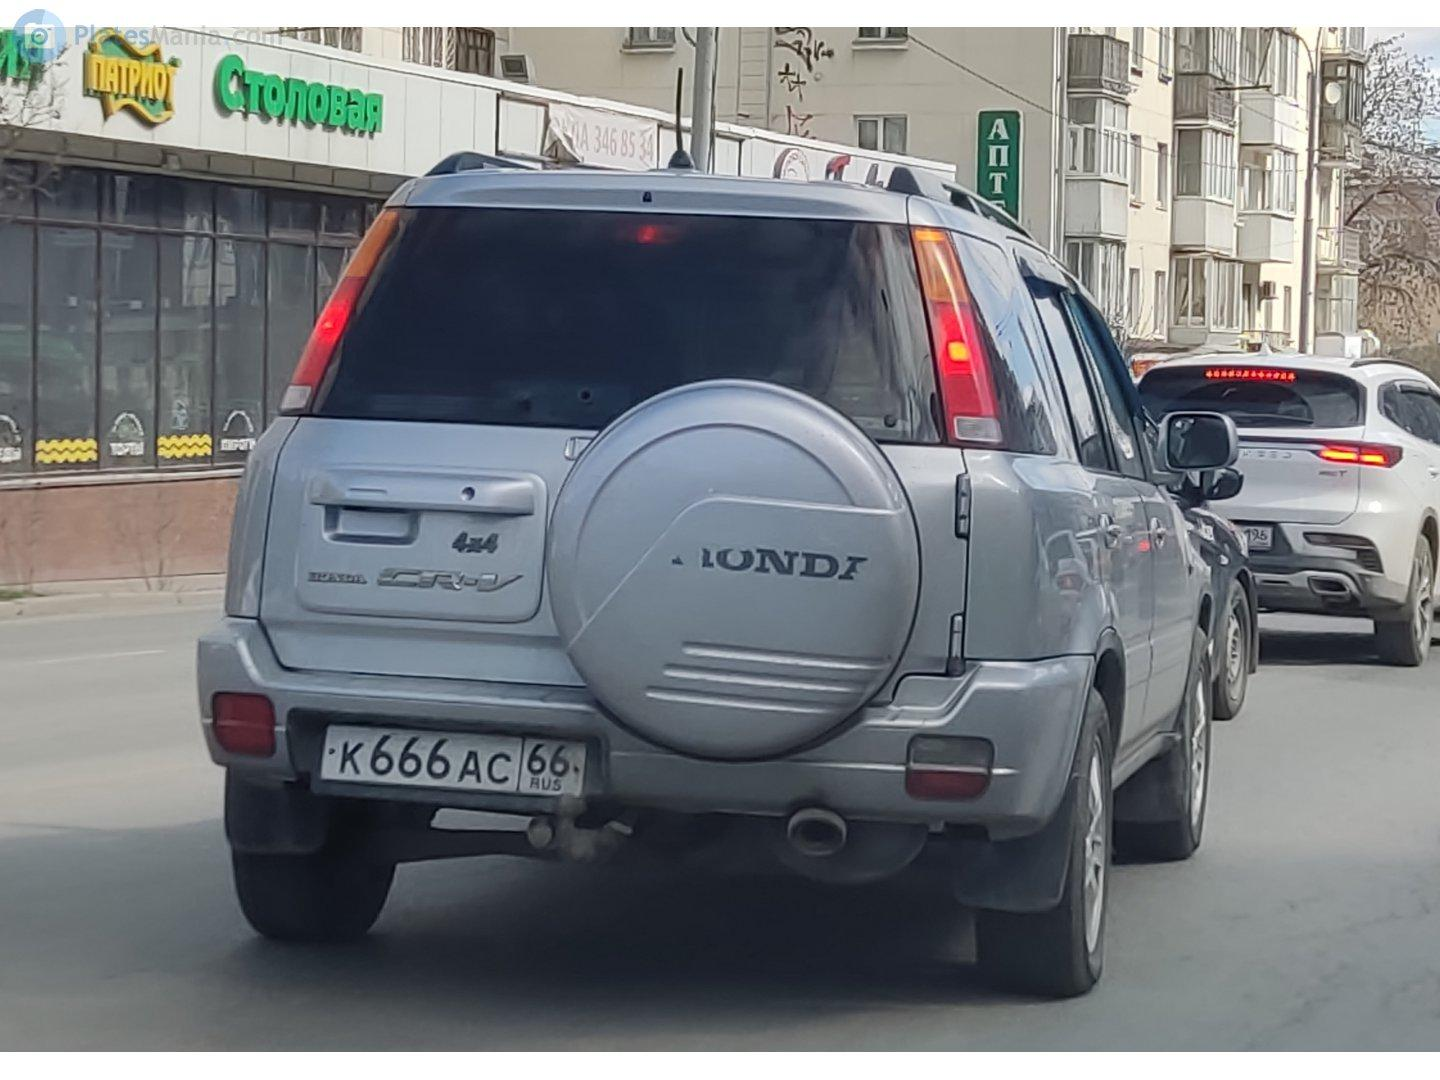license-plateSW: (326, 726, 590, 793)
